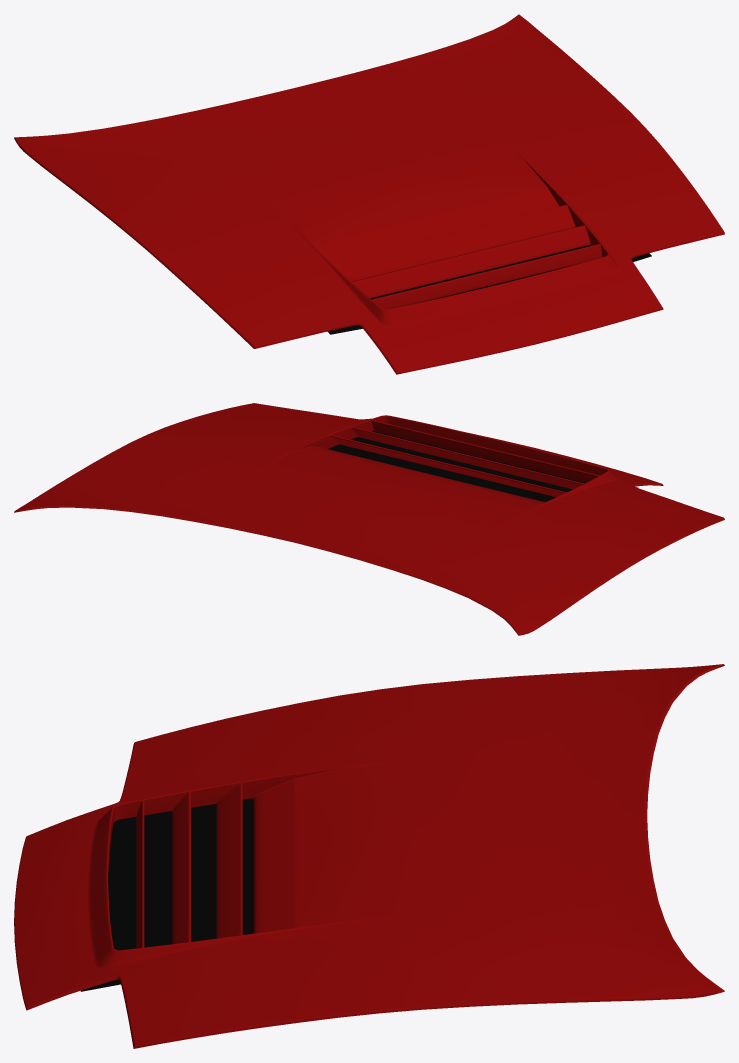
File: bonnet_carmodifywonderglare.glb
3 renders of one model, top to bottom at view 1: azimuth 30°, elevation 25°; view 2: azimuth 150°, elevation 25°; view 3: azimuth 270°, elevation 25°, orthographic. The views are drawn at different scales.
Parts seen in each view (by area): view 1: Bonnet, Cover; view 2: Bonnet, Cover; view 3: Bonnet, Cover.
Boxes of the visible parts, left/top/right/bottom form: Bonnet: left=14, top=14, right=724, bottom=374; Cover: left=327, top=244, right=651, bottom=334; Bonnet: left=14, top=403, right=724, bottom=635; Cover: left=328, top=431, right=638, bottom=502; Bonnet: left=14, top=664, right=724, bottom=1048; Cover: left=80, top=798, right=253, bottom=991.
Size of the model in its own units: 1.45 by 0.2274 by 1.33.
